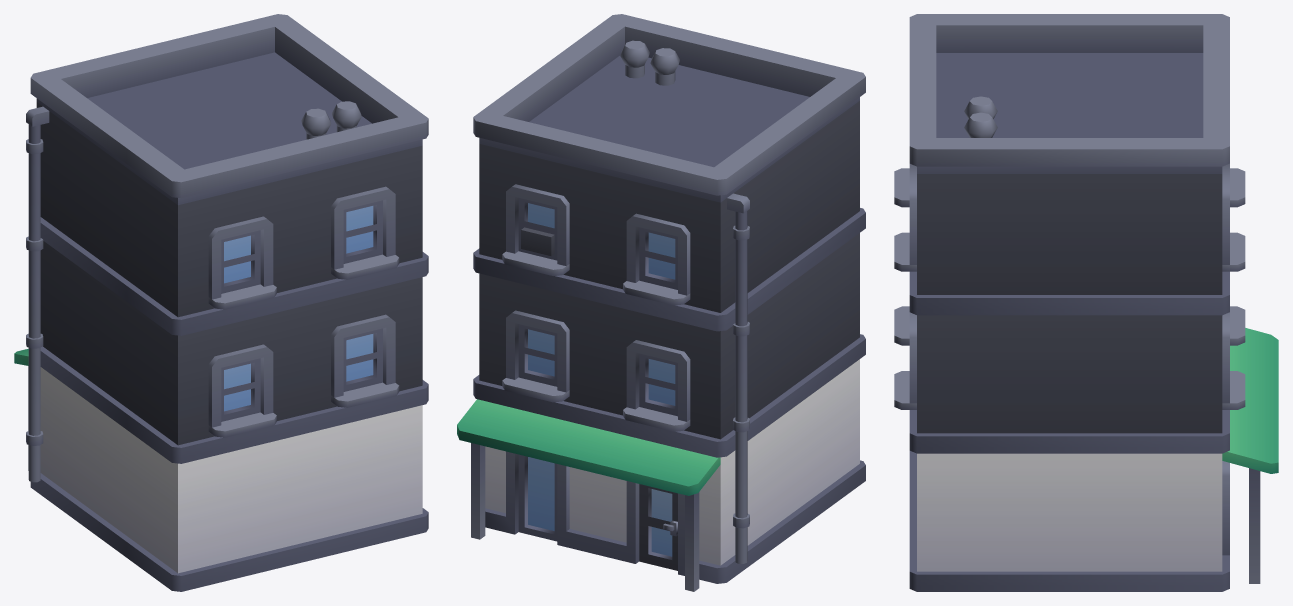
The model's file is commercial-building-h.glb.
3 views of the same model, side by side, from view 1: azimuth 30°, elevation 25°; view 2: azimuth 150°, elevation 25°; view 3: azimuth 270°, elevation 25° (orthographic). The views are drawn at different scales.
Visible parts, largest first — view 1: building-h; view 2: building-h; view 3: building-h.
Part boxes in pixels (x1=…): building-h: x1=14, y1=14, x2=428, y2=591; building-h: x1=457, y1=14, x2=865, y2=591; building-h: x1=894, y1=14, x2=1278, y2=591.
Bounding box in the file's own units: 0.8835 × 1.29 × 1.01.
Materials: 1 (1 with a texture image).
